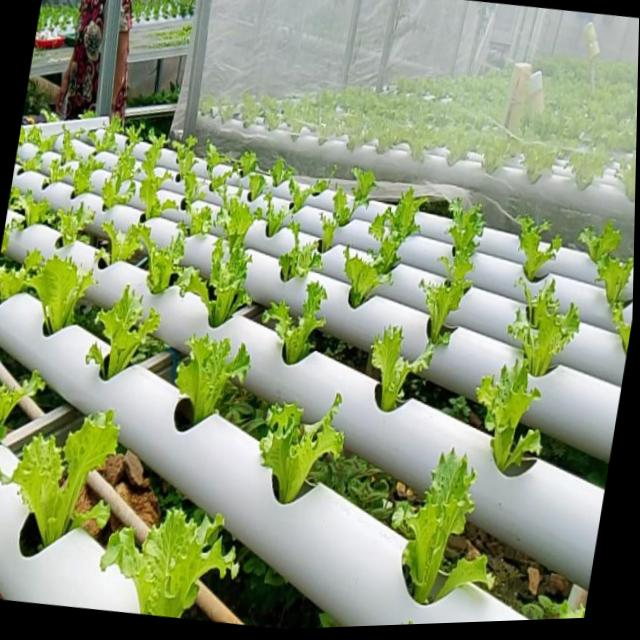Baby: (0, 408, 116, 542), (97, 506, 235, 616), (391, 447, 472, 602), (418, 199, 482, 351), (257, 393, 341, 503), (172, 335, 247, 431), (473, 359, 537, 471), (505, 278, 576, 375), (89, 286, 157, 380), (25, 251, 94, 333), (260, 281, 325, 364), (368, 326, 431, 411), (367, 188, 424, 274), (127, 223, 189, 296), (98, 128, 139, 210), (592, 249, 634, 324), (268, 223, 320, 282), (212, 191, 260, 254), (514, 215, 558, 281), (341, 247, 388, 308), (70, 154, 99, 196), (85, 117, 118, 152), (207, 165, 230, 197), (186, 206, 210, 235), (57, 127, 74, 165)
